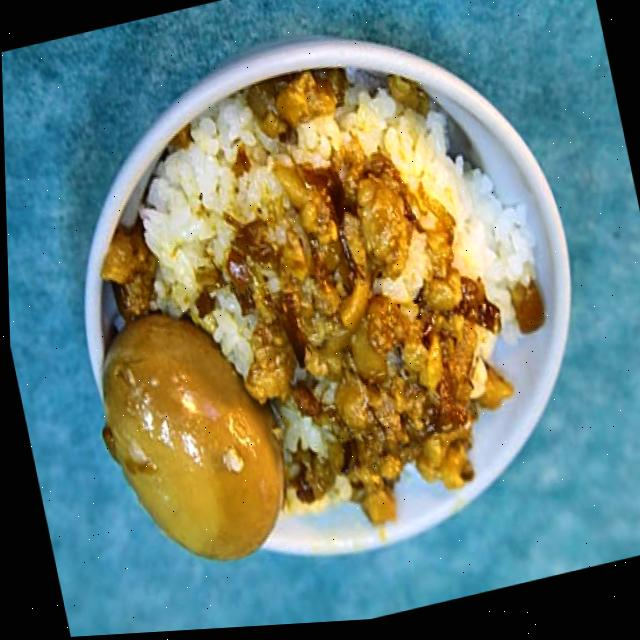猪肉菜式: (17, 5, 612, 619)
